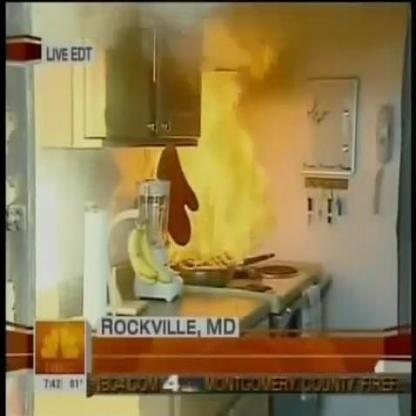fire: (157, 14, 284, 272)
